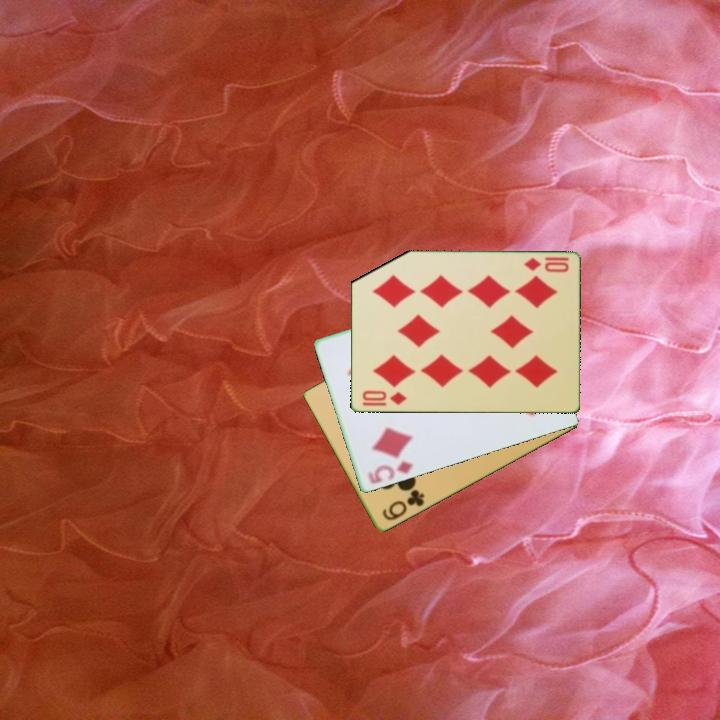10d: (520, 254, 571, 276), (359, 387, 409, 409)
5d: (363, 458, 416, 487)
6c: (378, 486, 427, 524)
